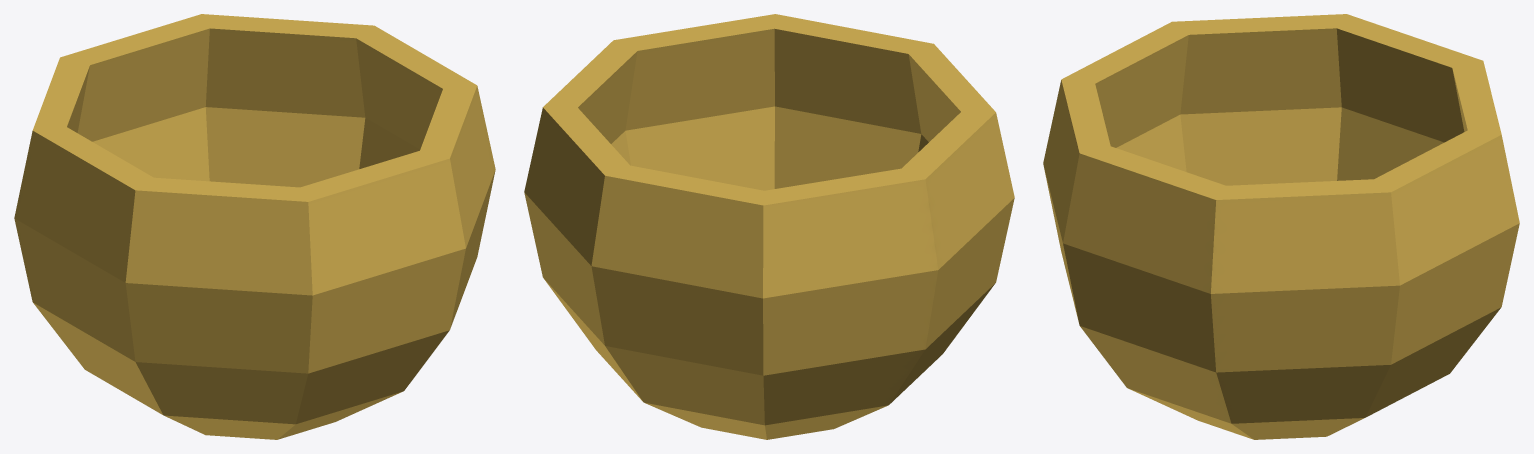
Rendered from pot.fbx.
3 renders of one model, left to right at view 1: azimuth 30°, elevation 25°; view 2: azimuth 150°, elevation 25°; view 3: azimuth 270°, elevation 25°, orthographic.
Visible parts, largest first — view 1: pSphere25; view 2: pSphere25; view 3: pSphere25.
Boxes of the visible parts, <box> form: pSphere25: <box>14,14,495,439</box>; pSphere25: <box>524,14,1014,439</box>; pSphere25: <box>1043,14,1519,439</box>.
Bounding box in the file's own units: 1.16 × 0.7928 × 1.16.
